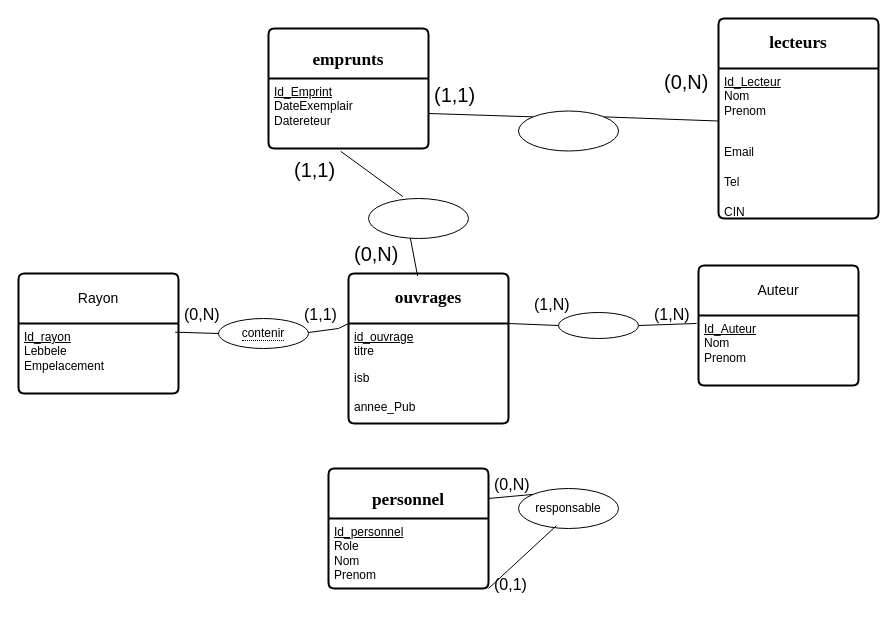
Image size: 896x628. Some labels were removed from this diagram. The shapes that lost their labels are listed below. From the top down, each one's centre as x and y in pixels, then its label:
At [568,130]: "Effectu".
At [418,218]: "Concerne".
At [598,325]: "Ecrire".
